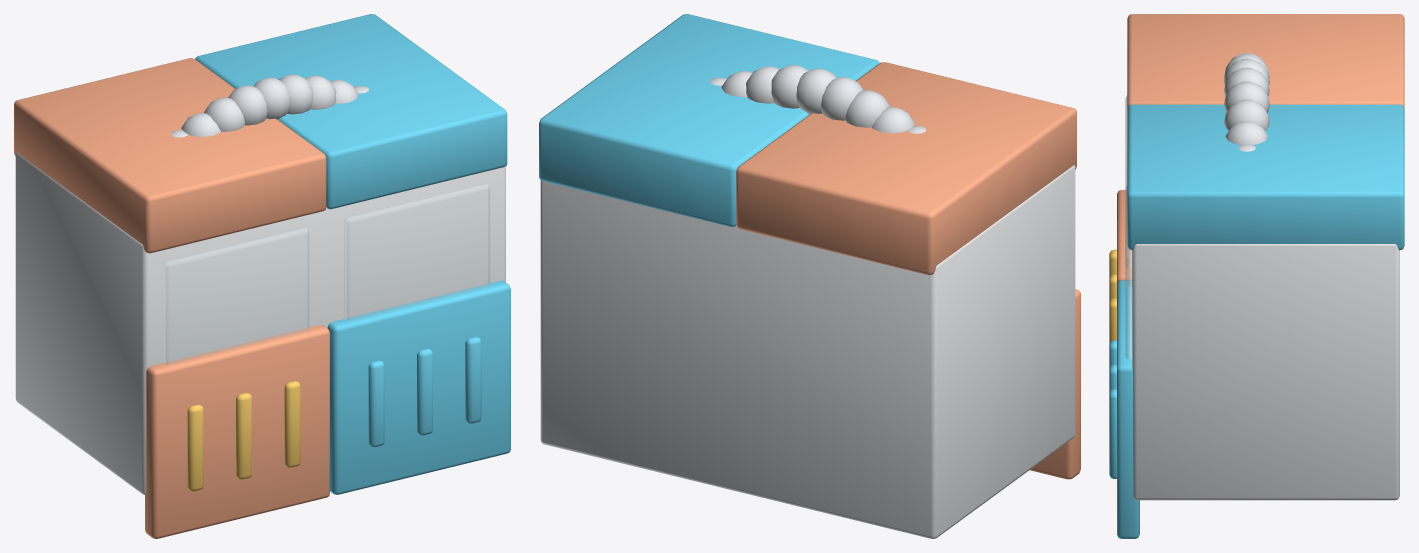
File: Pasteuriser.glb
The picture shows the model from 3 angles, left to right: view 1: azimuth 30°, elevation 25°; view 2: azimuth 150°, elevation 25°; view 3: azimuth 270°, elevation 25°; orthographic projection. The views are drawn at different scales.
Visible parts, largest first — view 1: shell; view 2: shell; view 3: shell.
Boxes of the visible parts, bbox=[...] form: shell: bbox=[14, 14, 510, 538]; shell: bbox=[539, 14, 1080, 538]; shell: bbox=[1109, 14, 1404, 538].
Bounding box in the file's own units: 2.25 × 2.2 × 1.55.
